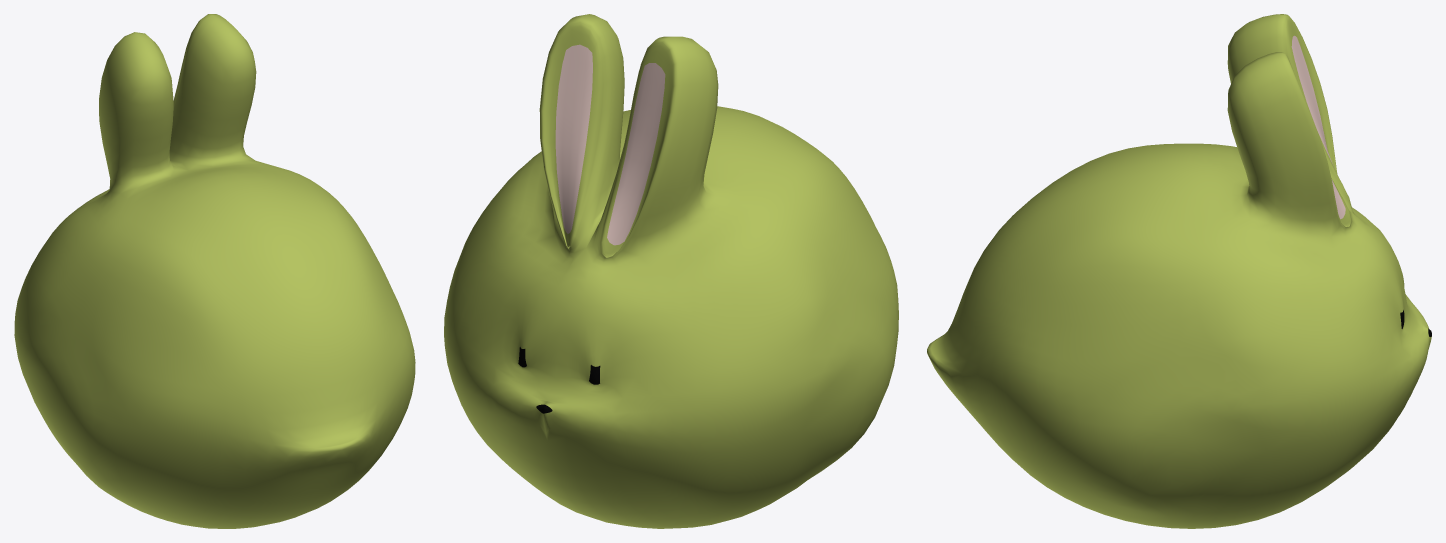
The model's file is prey_21.glb.
3 renders of one model, left to right at view 1: azimuth 30°, elevation 25°; view 2: azimuth 150°, elevation 25°; view 3: azimuth 270°, elevation 25°, orthographic. The views are drawn at different scales.
Visible parts, largest first — view 1: Cube; view 2: Cube; view 3: Cube.
Part boxes in pixels (left/top/right/bottom): Cube: left=14, top=14, right=415, bottom=528; Cube: left=444, top=14, right=898, bottom=528; Cube: left=927, top=14, right=1431, bottom=528.
Bounding box in the file's own units: 4.03 × 5.34 × 5.15.
